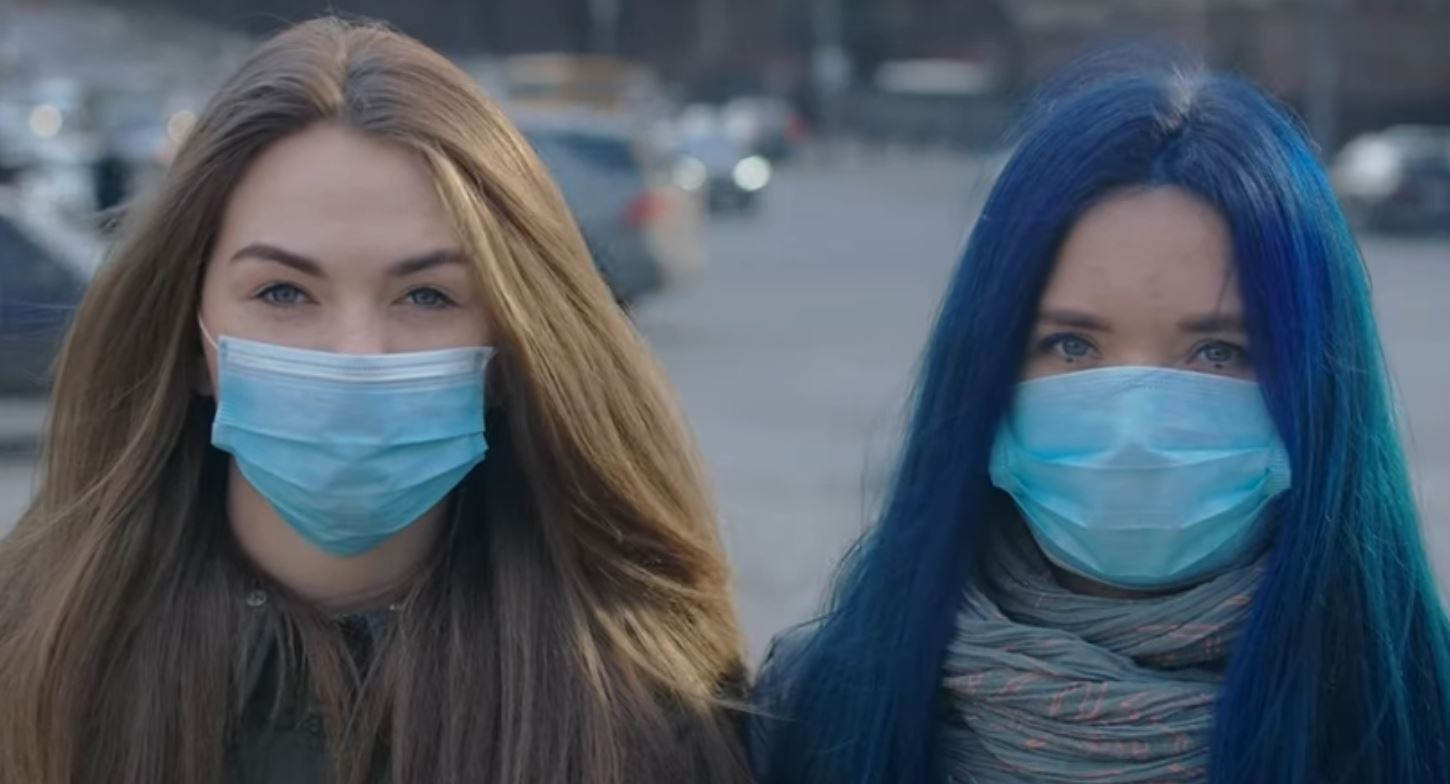with_mask: (208, 123, 492, 542), (1001, 179, 1298, 578)
